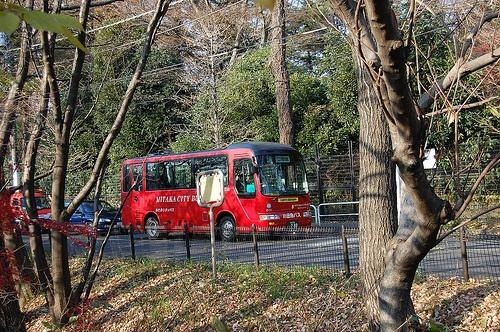bus: (126, 143, 312, 241)
car: (65, 200, 123, 235)
